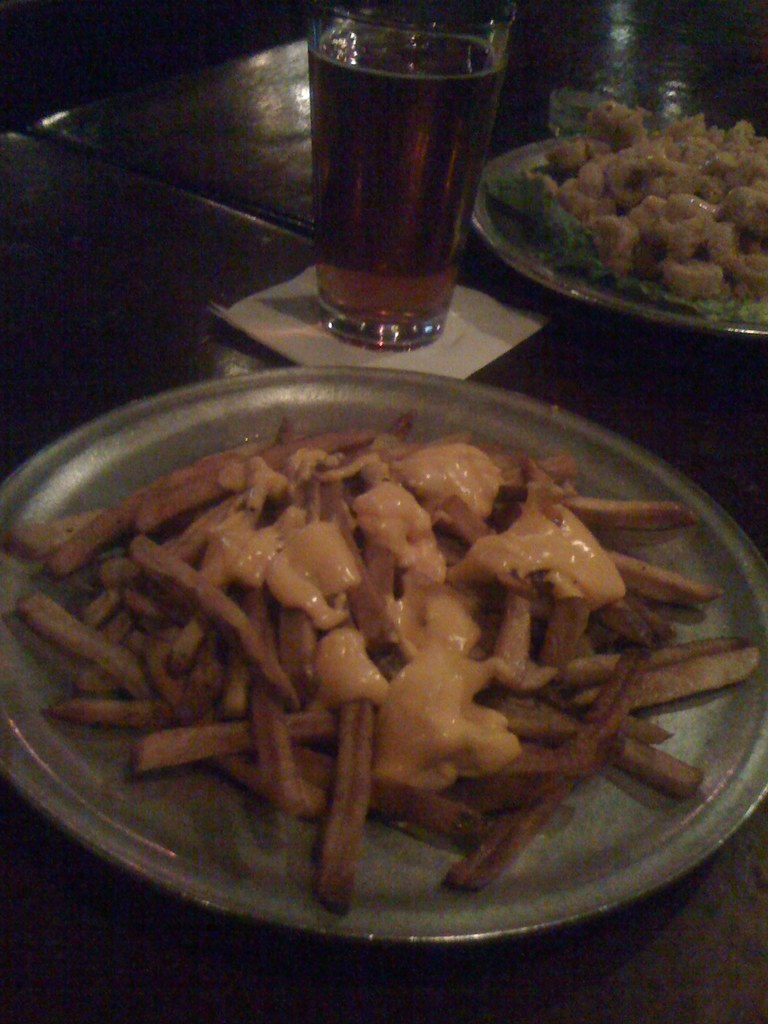French fries: (36, 432, 711, 863)
